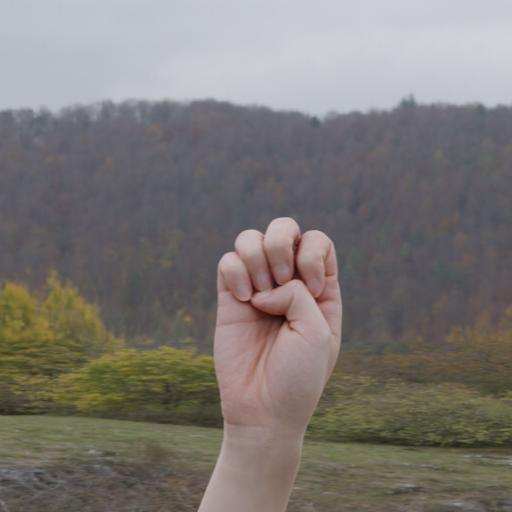E: (210, 211, 349, 436)
